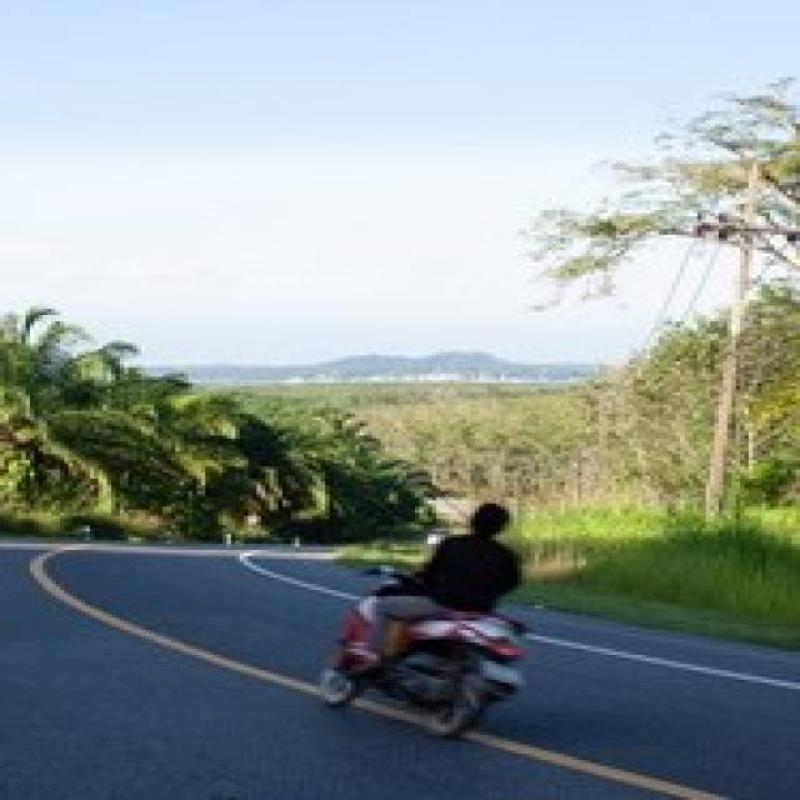nohelmet: (454, 489, 524, 546)
